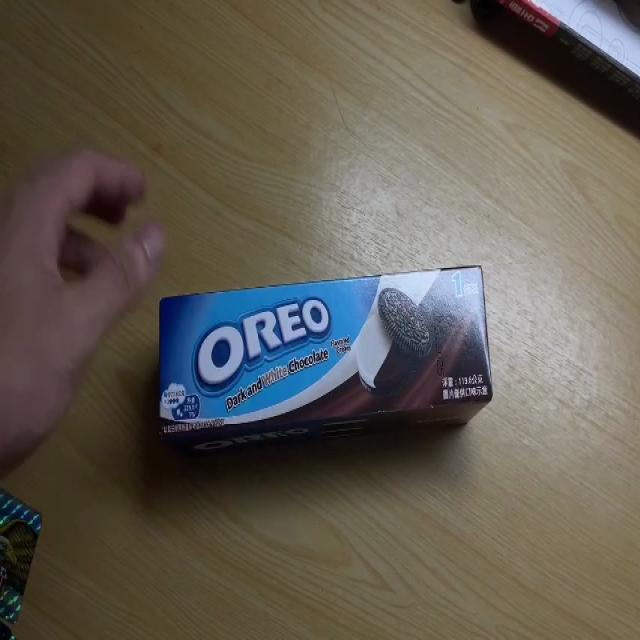Oreo: (155, 261, 492, 446)
